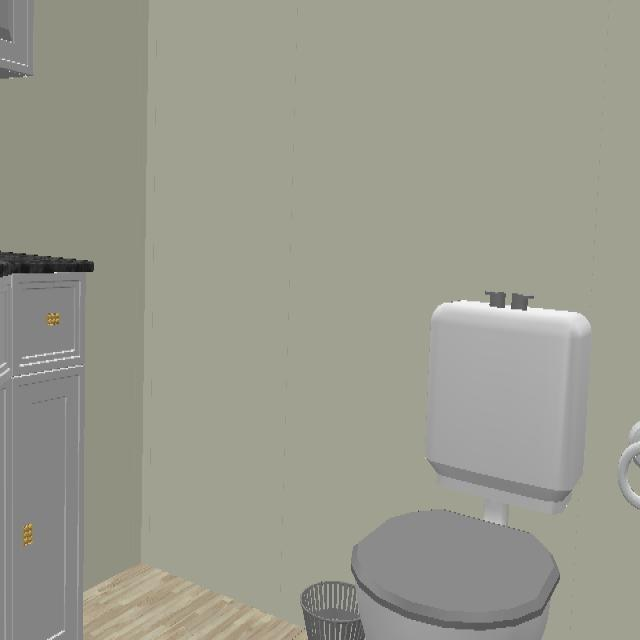cabinet: (0, 253, 94, 638)
toilet: (351, 293, 591, 638)
